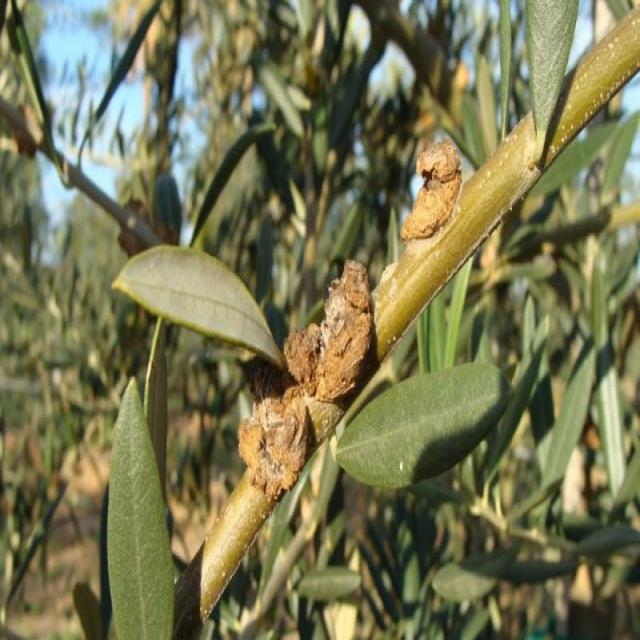Healthy: (338, 363, 510, 488), (114, 246, 283, 366), (106, 378, 174, 639)
Tuberculosis: (284, 260, 374, 439), (238, 383, 314, 502), (400, 138, 462, 245)
